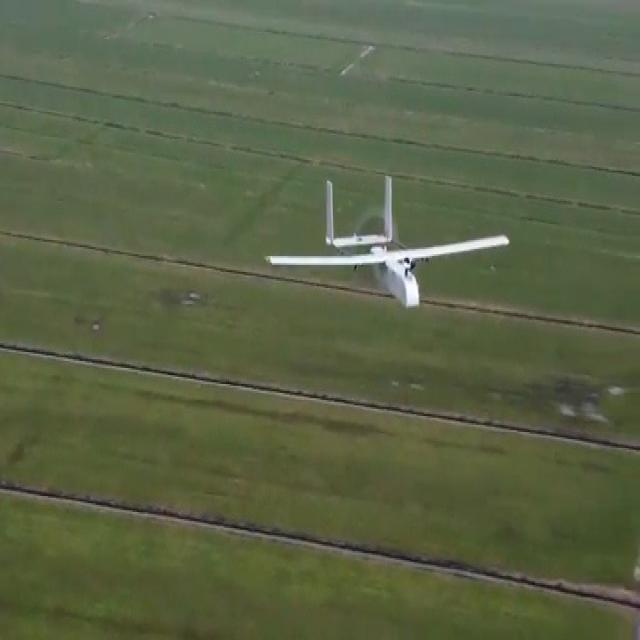iha: (264, 163, 516, 324)
